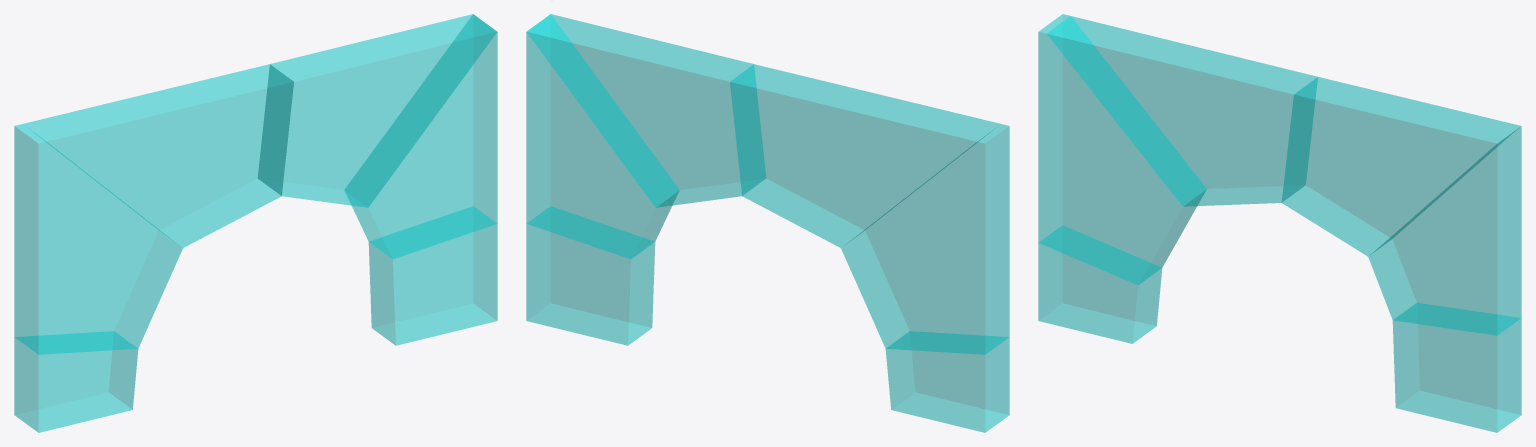
File: SM_Bld_Wall_Arch_Half_01_Collision_01.fbx
3 renders of one model, left to right at view 1: azimuth 30°, elevation 25°; view 2: azimuth 150°, elevation 25°; view 3: azimuth 330°, elevation 25°, orthographic.
Visible parts, largest first — view 1: SM_Bld_Wall_Arch_Half_01_Collision_01; view 2: SM_Bld_Wall_Arch_Half_01_Collision_01; view 3: SM_Bld_Wall_Arch_Half_01_Collision_01.
Part boxes in pixels (x1=…): SM_Bld_Wall_Arch_Half_01_Collision_01: x1=14, y1=14, x2=497, y2=432; SM_Bld_Wall_Arch_Half_01_Collision_01: x1=526, y1=14, x2=1009, y2=432; SM_Bld_Wall_Arch_Half_01_Collision_01: x1=1038, y1=14, x2=1521, y2=432.
Bounding box in the file's own units: 250 × 151 × 22.86.
